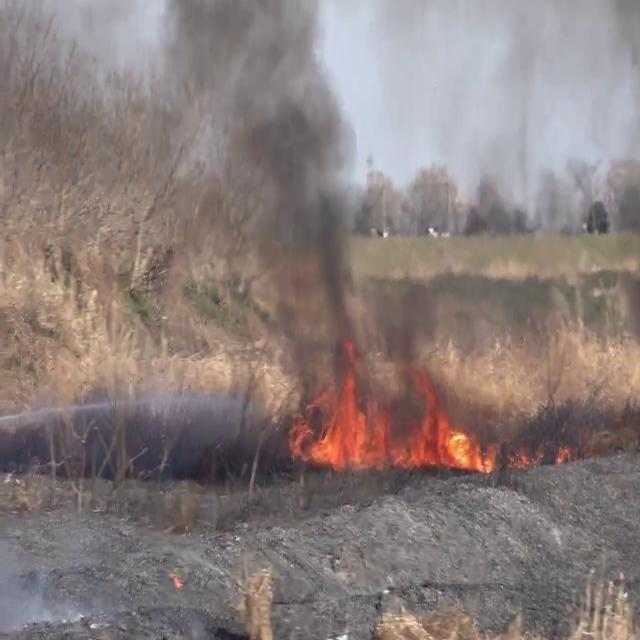Fire: (290, 349, 490, 477)
Smoke: (142, 0, 376, 414), (426, 0, 638, 277)
